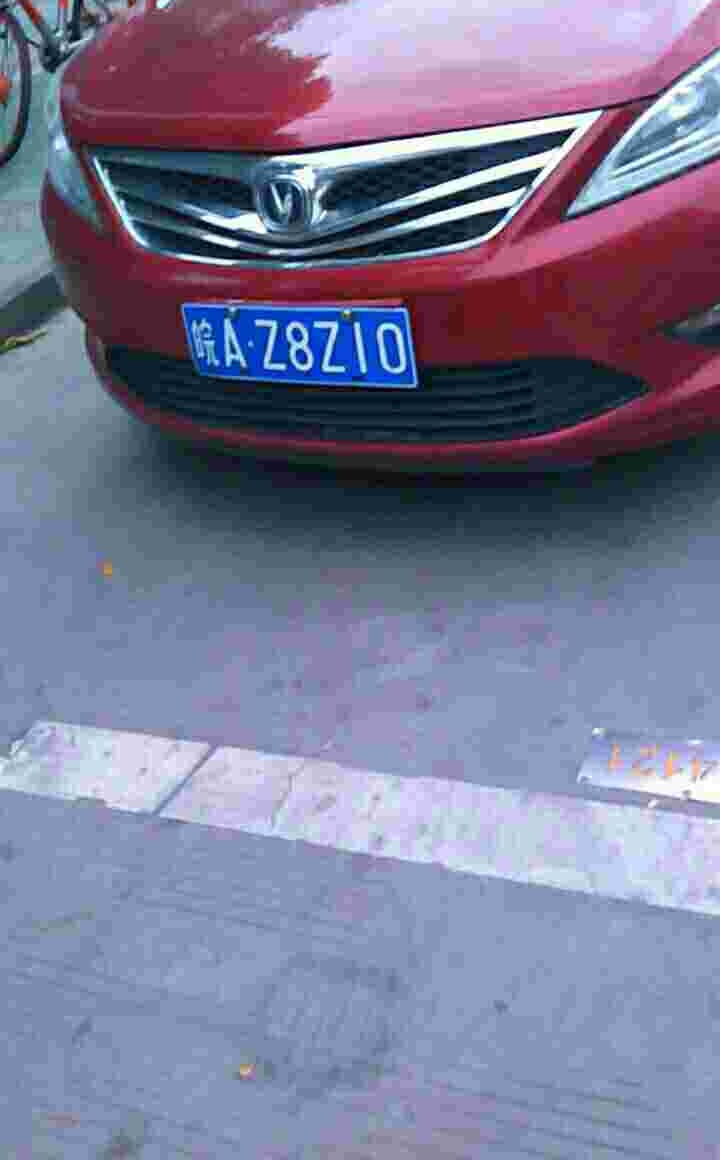license_plate: (188, 306, 421, 387)
